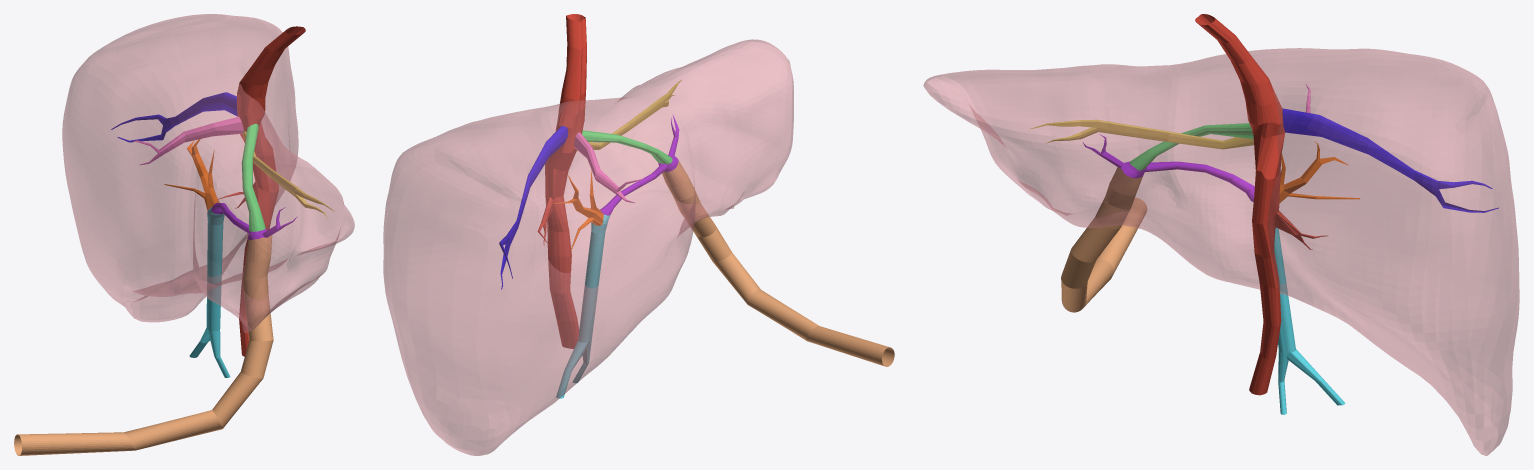
File: fullmodel1.glb
The picture shows the model from 3 angles, left to right: view 1: azimuth 30°, elevation 25°; view 2: azimuth 150°, elevation 25°; view 3: azimuth 270°, elevation 25°; orthographic projection. The views are drawn at different scales.
Visible parts, largest first — view 1: Cube, Circle; view 2: Cube, Circle; view 3: Cube, Circle.
Part boxes in pixels (x1,y1,x2,y2): Cube: (62,14,354,332); Circle: (14,26,334,455); Cube: (383,39,793,455); Circle: (499,14,894,398); Cube: (923,48,1519,455); Circle: (1031,14,1498,414).
Bounding box in the file's own units: 56.04 × 49.84 × 62.46.
